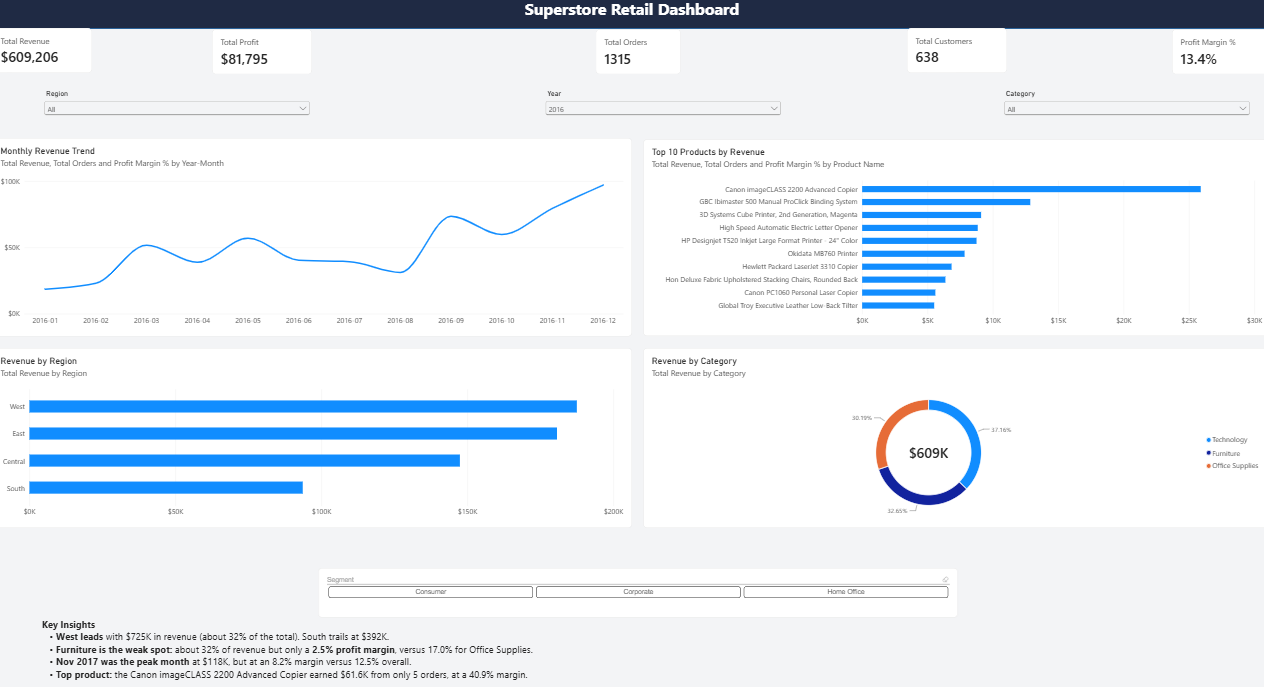

The dashboard page shown, as its layout file describes it:
{"tool":"powerbi","page":{"name":"Overview","canvas":[2560,1440],"ordinal":0},"visuals":[{"type":"shape","box":[0,0,2560,61.5],"z":0},{"type":"textbox","box":[0,0,2560,69.7],"z":1000},{"type":"cardVisual","fields":{"Data":["Measures (2).Total Profit"]},"box":[439.1,62.7,200,90],"z":2000},{"type":"cardVisual","fields":{"Data":["Measures (2).Total Revenue"]},"box":[0,60.3,200,90],"z":3000},{"type":"cardVisual","fields":{"Data":["Measures (2).Total Customers"]},"box":[1829,60.3,200,90],"z":4000},{"type":"cardVisual","fields":{"Data":["Measures (2).Total Orders"]},"box":[1206.4,62.7,170,90],"z":5000},{"type":"cardVisual","fields":{"Data":["Measures (2).Profit Margin %"]},"box":[2359,61.5,200,90],"z":6000},{"type":"lineChart","title":"Monthly Revenue Trend","fields":{"Category":["DateTable.Year-Month"],"Y":["Measures (2).Total Revenue"]},"box":[0,280,1280,396.7],"z":7000},{"type":"clusteredBarChart","title":"Top 10 Products by Revenue","fields":{"Category":["Sales.Product Name"],"Y":["Measures (2).Total Revenue"]},"box":[1303.3,283.3,1255.4,393.8],"z":8000},{"type":"clusteredBarChart","title":"Revenue by Region","fields":{"Category":["Sales.Region"],"Y":["Measures (2).Total Revenue"]},"box":[0,700,1280,360],"z":9000},{"type":"donutChart","title":"Revenue by Category","fields":{"Category":["Sales.Category"],"Y":["Measures (2).Total Revenue"]},"box":[1303.3,700,1256.7,360],"z":10000},{"type":"slicer","fields":{"Values":["Sales.Region"]},"box":[100,183.3,540,83.3],"z":11000},{"type":"slicer","fields":{"Values":["Sales.Category"]},"box":[2020,183.3,500,53.3],"z":12000},{"type":"slicer","fields":{"Values":["DateTable.Year"]},"box":[1103.3,183.3,480,106.7],"z":13000},{"type":"ChicletSlicer1448559807354","fields":{"Category":["Sales.Segment"]},"box":[652.6,1140,1279,99.6],"z":14000},{"type":"textbox","box":[100,1240,1275,200],"z":14002}]}

Visuals, with their boxes on the page's 2560x1440 design canvas (x1, y1, x2, y2). These are canvas units, not pixel positions in the 1264x687 screenshot, which may show the page scaled, cropped or inside an application window:
shape: region(0, 0, 2560, 62)
textbox: region(0, 0, 2560, 70)
cardVisual - Measures (2).Total Profit: region(439, 63, 639, 153)
cardVisual - Measures (2).Total Revenue: region(0, 60, 200, 150)
cardVisual - Measures (2).Total Customers: region(1829, 60, 2029, 150)
cardVisual - Measures (2).Total Orders: region(1206, 63, 1376, 153)
cardVisual - Measures (2).Profit Margin %: region(2359, 62, 2559, 152)
"Monthly Revenue Trend" lineChart: region(0, 280, 1280, 677)
"Top 10 Products by Revenue" clusteredBarChart: region(1303, 283, 2559, 677)
"Revenue by Region" clusteredBarChart: region(0, 700, 1280, 1060)
"Revenue by Category" donutChart: region(1303, 700, 2560, 1060)
slicer - Sales.Region: region(100, 183, 640, 267)
slicer - Sales.Category: region(2020, 183, 2520, 237)
slicer - DateTable.Year: region(1103, 183, 1583, 290)
ChicletSlicer1448559807354 - Sales.Segment: region(653, 1140, 1932, 1240)
textbox: region(100, 1240, 1375, 1440)
